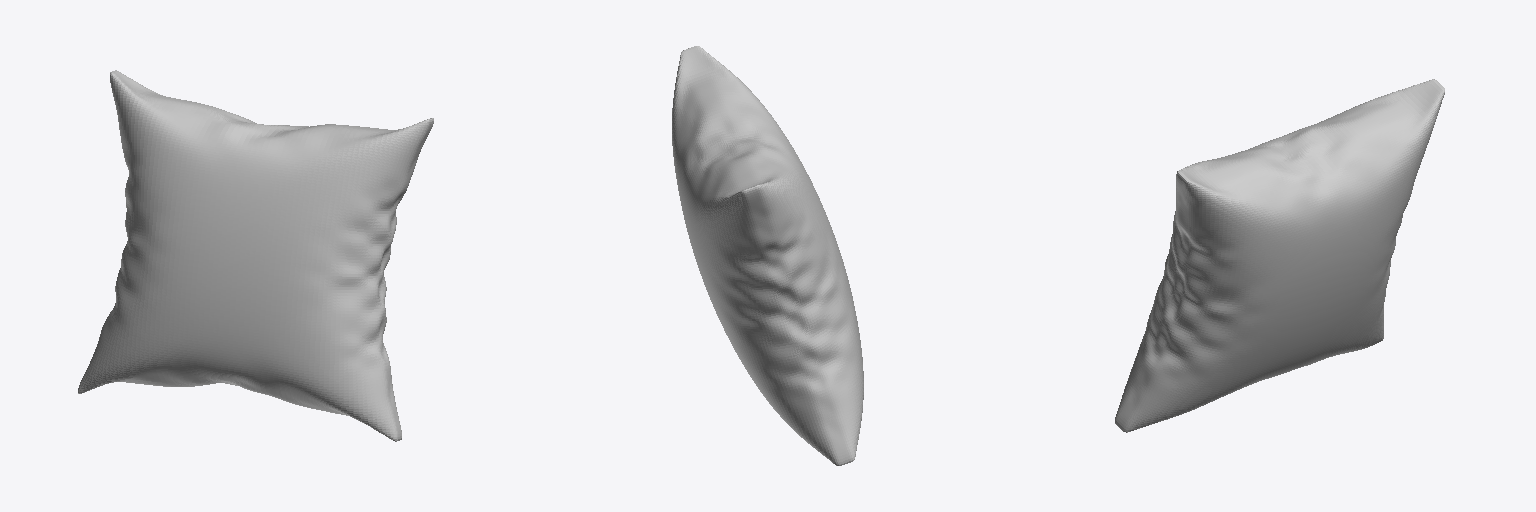
The model's file is sofamiddlepillow.obj.
3 views of the same model, side by side, from view 1: azimuth 30°, elevation 25°; view 2: azimuth 150°, elevation 25°; view 3: azimuth 270°, elevation 25° (orthographic).
Parts seen in each view (by area): view 1: 立方体.013; view 2: 立方体.013; view 3: 立方体.013.
Part boxes in pixels (x1,y1,x2,y2): 立方体.013: (78,70,433,441); 立方体.013: (672,46,863,465); 立方体.013: (1115,79,1444,432).
Size of the model in its own units: 0.5438 by 0.5643 by 0.5887.